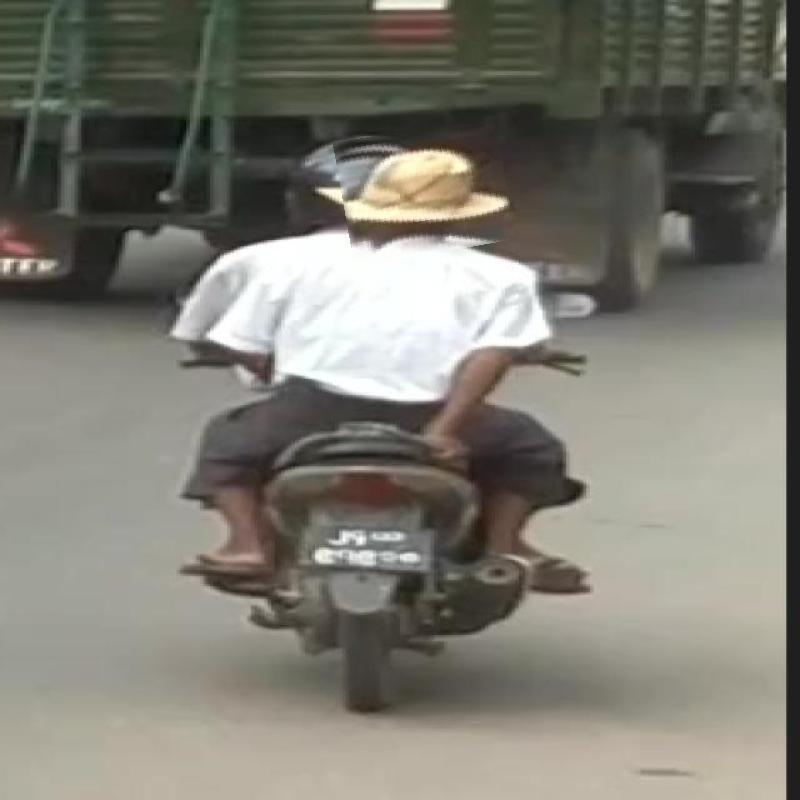nohelmet: (338, 121, 512, 260)
